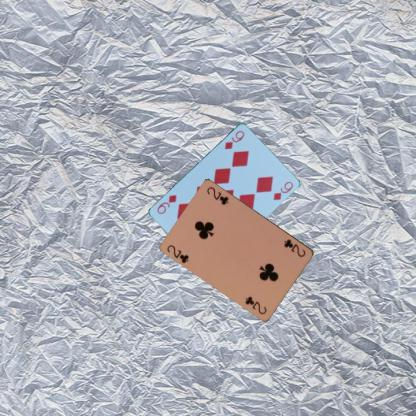2c: (281, 236, 307, 258), (165, 242, 190, 264)
9d: (222, 128, 245, 150)
